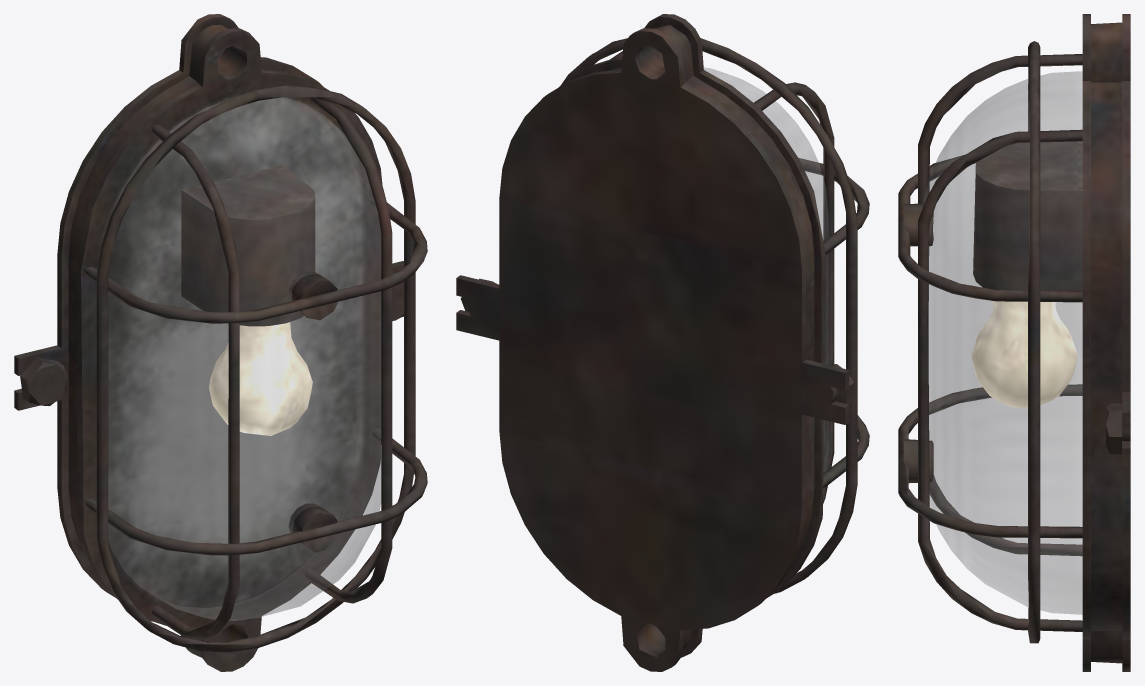
Rendered from industrial_wall_lamp.glb.
3 views of the same model, side by side, from view 1: azimuth 30°, elevation 25°; view 2: azimuth 150°, elevation 25°; view 3: azimuth 270°, elevation 25° (orthographic).
Visible parts, largest first — view 1: industrial_wall_lamp; view 2: industrial_wall_lamp; view 3: industrial_wall_lamp.
Part boxes in pixels (bbox=[...]): industrial_wall_lamp: bbox=[14, 14, 427, 671]; industrial_wall_lamp: bbox=[456, 14, 869, 671]; industrial_wall_lamp: bbox=[898, 14, 1130, 671].
Size of the model in its own units: 0.2735 by 0.4299 by 0.139.
Materials: 2 (2 with a texture image).
